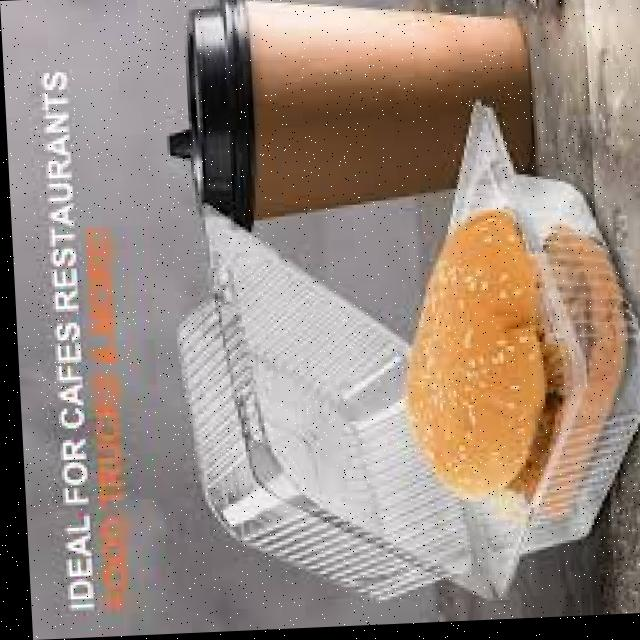disposable: (409, 95, 640, 585)
